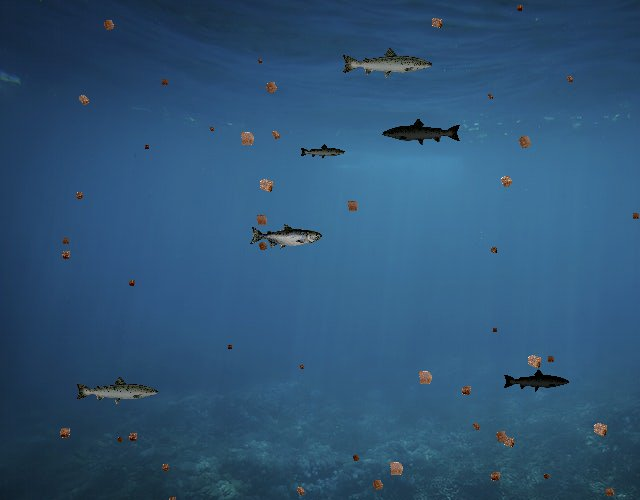Fish: (341, 47, 435, 80), (74, 375, 160, 406), (382, 118, 463, 147), (250, 224, 323, 250), (502, 368, 570, 393), (299, 143, 346, 160)
Pellet: (512, 129, 538, 155), (494, 169, 519, 194), (72, 89, 94, 111), (486, 243, 501, 257), (512, 1, 526, 15), (540, 470, 553, 483), (206, 124, 216, 134)
